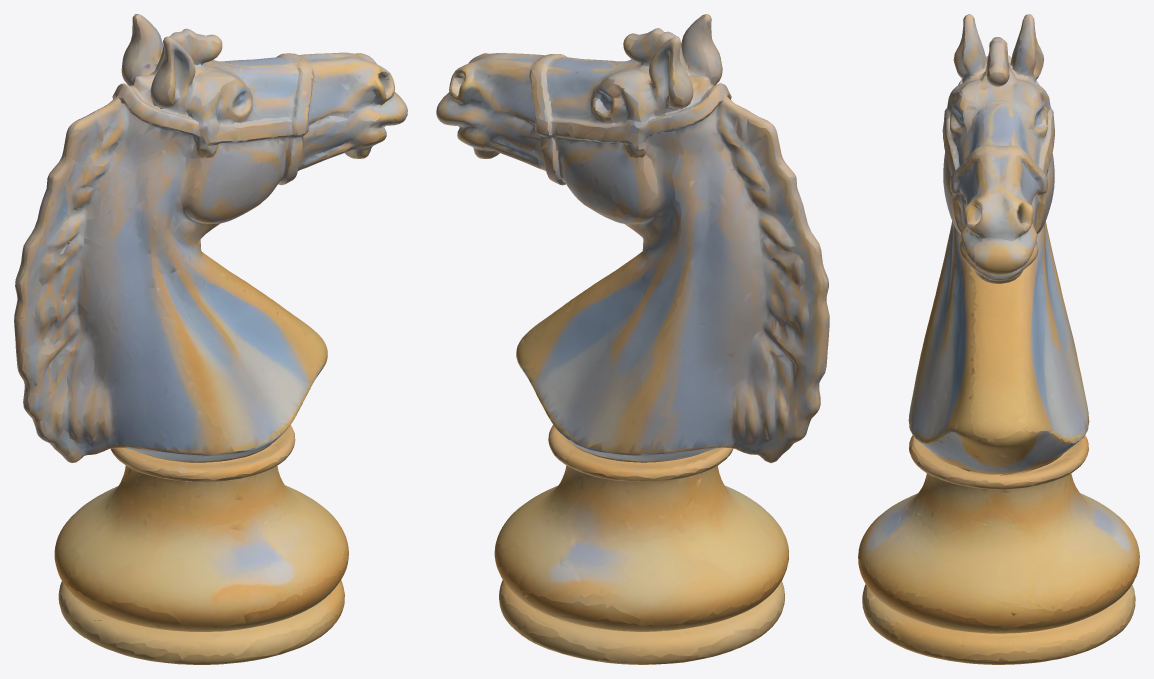
Rendered from chess-3d.glb.
3 views of the same model, side by side, from view 1: azimuth 30°, elevation 25°; view 2: azimuth 150°, elevation 25°; view 3: azimuth 270°, elevation 25° (orthographic). The views are drawn at different scales.
Parts seen in each view (by area): view 1: textured_mesh; view 2: textured_mesh; view 3: textured_mesh.
Part boxes in pixels (x1,y1,x2,y2): textured_mesh: [14, 14, 407, 664]; textured_mesh: [436, 14, 829, 664]; textured_mesh: [858, 14, 1139, 664].
Size of the model in its own units: 1.35 by 1.99 by 0.8887.
Materials: 1 (1 with a texture image).
